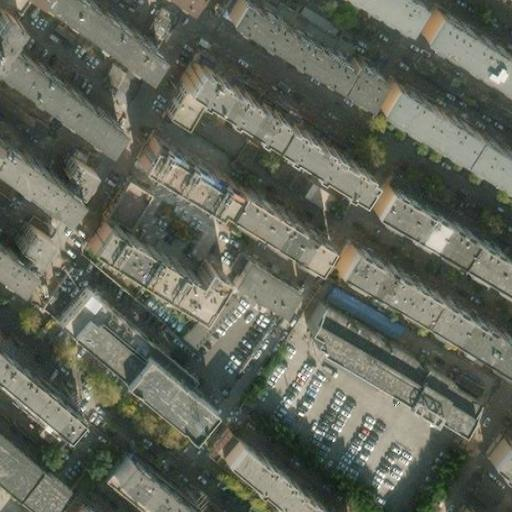building: (130, 136, 321, 269), (290, 292, 472, 425), (337, 259, 512, 390), (375, 199, 512, 307), (78, 214, 212, 306), (43, 0, 166, 95), (0, 65, 122, 158), (227, 11, 348, 102), (78, 284, 179, 371), (111, 343, 209, 432), (267, 116, 369, 194), (180, 60, 282, 138), (379, 95, 479, 173), (0, 350, 75, 430), (97, 452, 188, 512), (55, 301, 131, 371), (222, 454, 309, 512), (216, 245, 288, 308), (0, 421, 58, 497), (104, 178, 156, 233), (463, 148, 512, 203), (332, 71, 380, 120), (45, 275, 89, 323), (8, 235, 50, 278), (485, 429, 511, 483), (0, 27, 25, 82), (53, 163, 90, 200), (158, 77, 192, 112), (19, 0, 59, 24), (62, 495, 115, 512), (452, 498, 489, 512)
